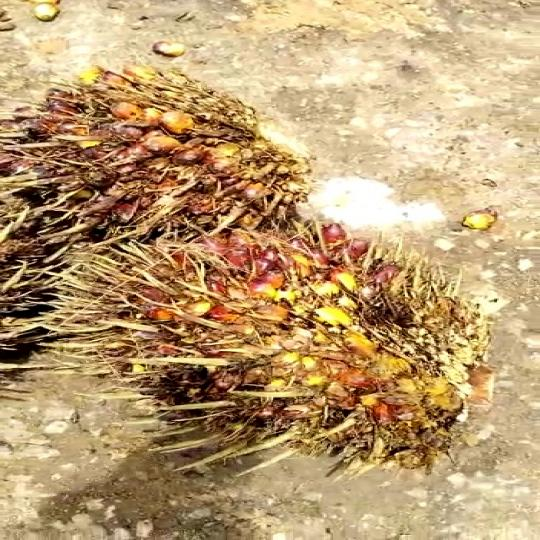masak: (69, 215, 504, 480), (0, 59, 337, 238)
